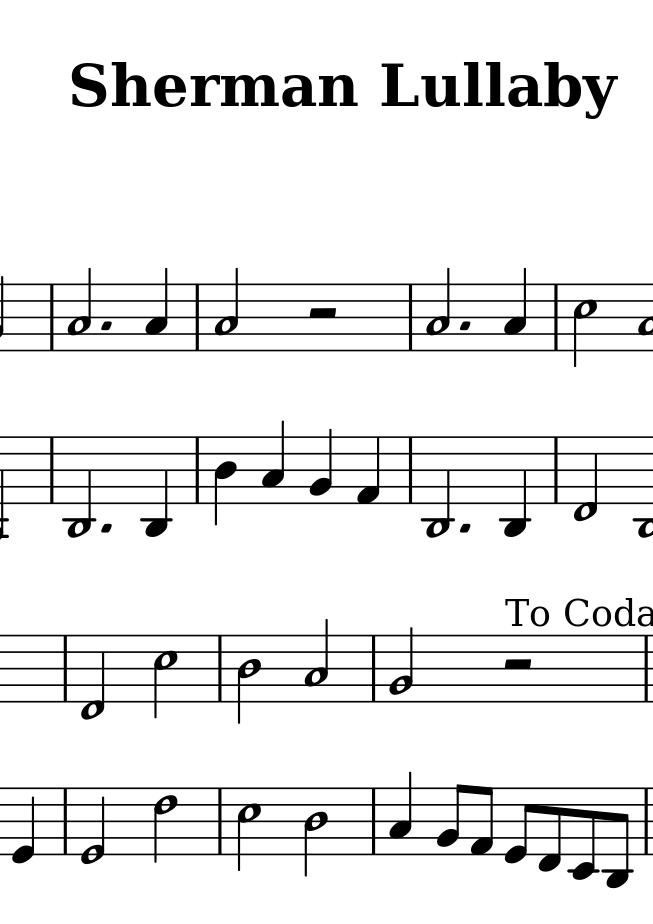2_-1: (573, 433, 599, 524), (81, 633, 105, 722)
2_-3: (422, 435, 452, 539), (64, 436, 93, 539)
2_0: (78, 785, 106, 867)
2_2: (387, 626, 415, 703)
2_3: (213, 268, 241, 352), (66, 270, 93, 354), (425, 269, 452, 353), (303, 620, 329, 701)
2_4: (303, 785, 329, 875), (236, 633, 262, 722)
2_5: (572, 282, 599, 368), (235, 787, 262, 872), (152, 634, 179, 718)
2_6: (153, 785, 178, 863)
4_-3: (501, 434, 528, 538), (142, 434, 169, 537)
4_0: (11, 784, 36, 868)
4_1: (355, 436, 381, 506)
4_2: (308, 427, 334, 505)
4_3: (502, 268, 528, 350), (388, 772, 413, 857), (144, 268, 169, 351), (261, 421, 286, 503)
4_4: (213, 437, 238, 526)
8_-1: (537, 786, 564, 874)
8_-2: (567, 787, 599, 879)
8_-3: (603, 785, 630, 891)
8_0: (503, 786, 533, 867)
8_1: (470, 784, 495, 858)
8_2: (435, 783, 465, 856)
Rests2: (501, 656, 535, 673), (306, 306, 339, 322)
Single_barline: (212, 789, 229, 852), (190, 285, 206, 351), (212, 635, 228, 700), (366, 789, 382, 854), (403, 283, 418, 351), (44, 284, 59, 352), (550, 286, 565, 350), (58, 789, 72, 854), (367, 636, 381, 700), (404, 437, 417, 505), (45, 438, 58, 504), (191, 439, 204, 503)
dot: (457, 318, 472, 333), (99, 318, 113, 333)
